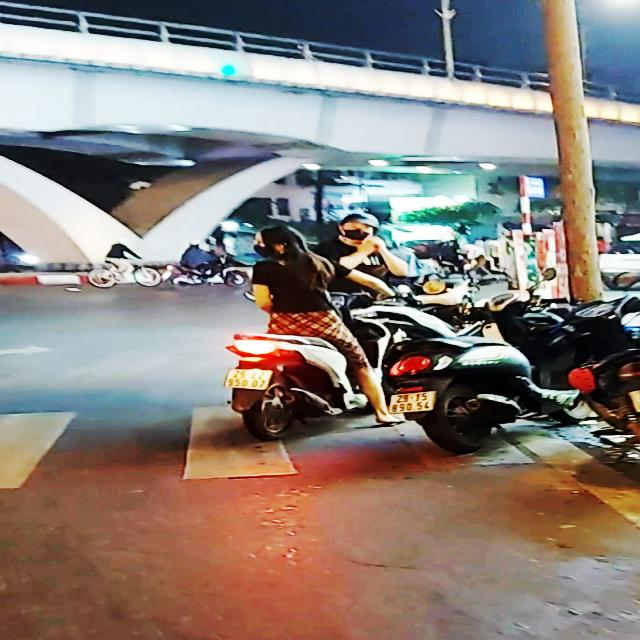license_plate: (389, 391, 438, 415), (223, 370, 275, 391)
